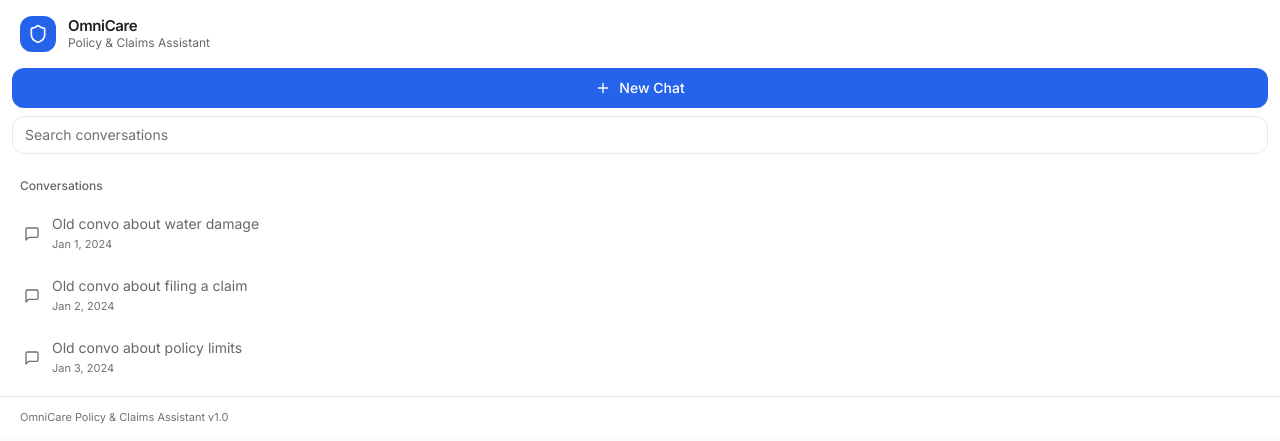
Test: Sidebar conversation actions › leaves the row untouched when the rename is cancelled with Escape
Expected: the text "Old convo about water damage" is shown, [52,215,259,232]
Hover over the element showing "Old convo about water damage Jan 1, 2024".
mouse_move(640, 234)  # box [12,204,1268,264]
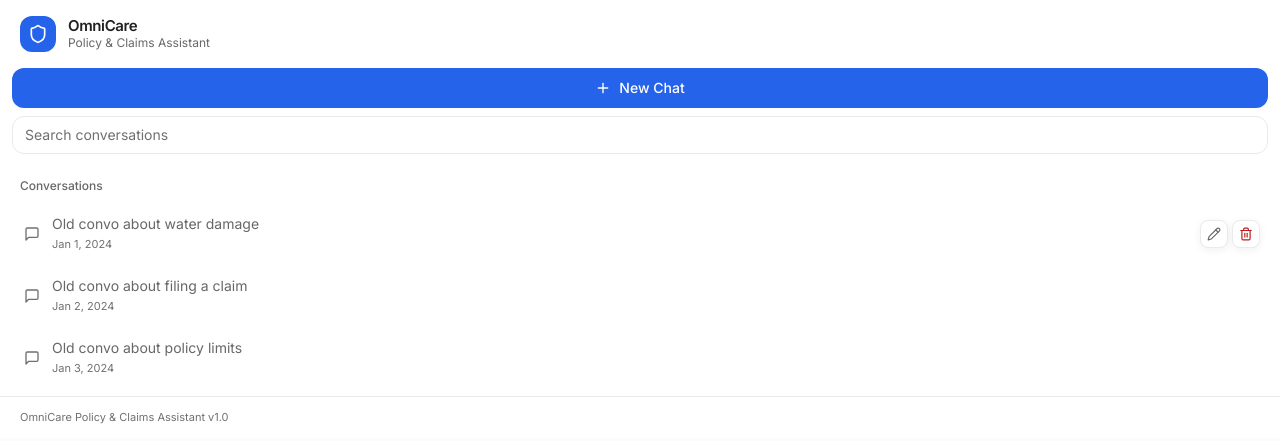
Click the button named "Rename Old convo about water damage".
click(1214, 234)  # box [1200,220,1228,248]
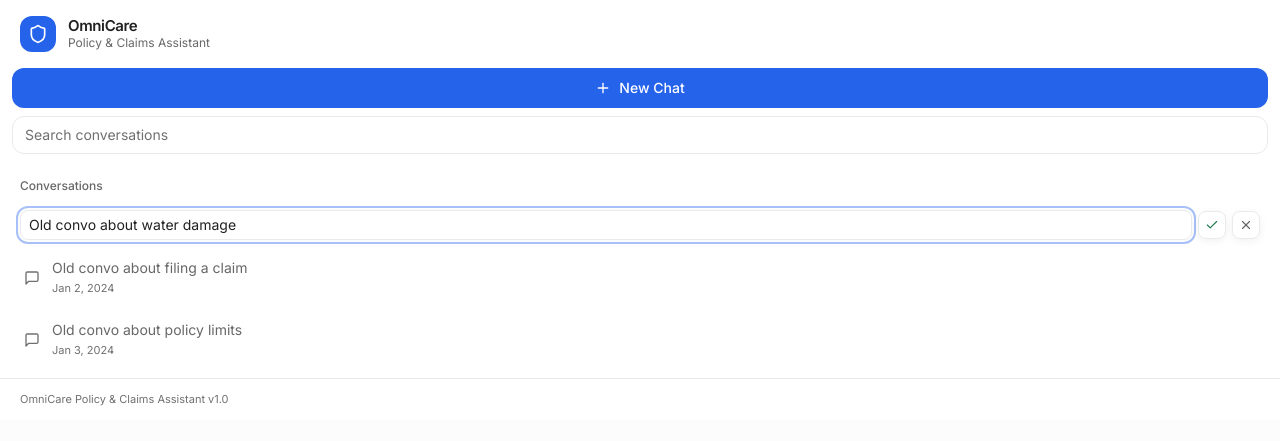
Replace the text in the field named "New title for Old convo about water damage" with "Discarded title" at (606, 225), box [20,210,1192,240]
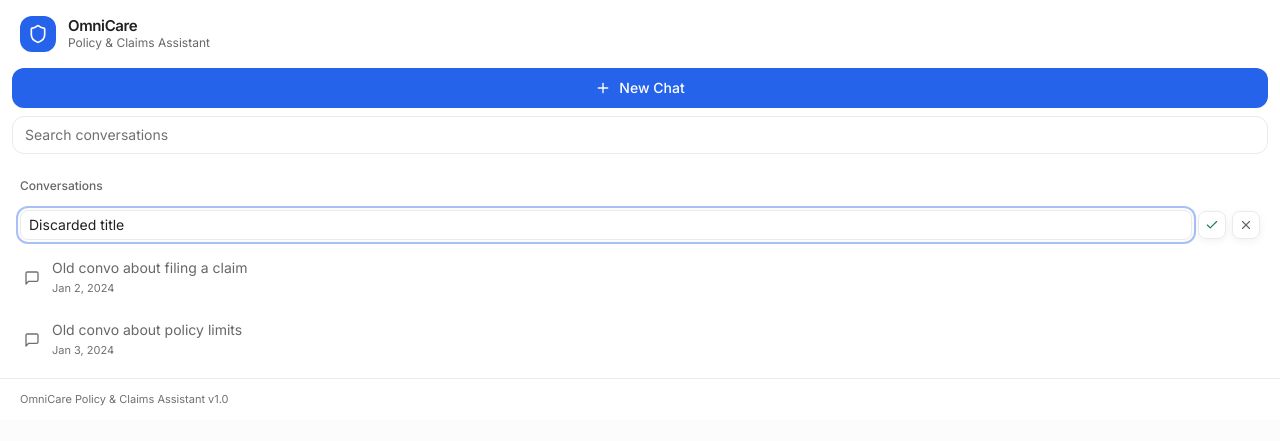
Press Escape in the field named "New title for Old convo about water damage", box [20,210,1192,240]
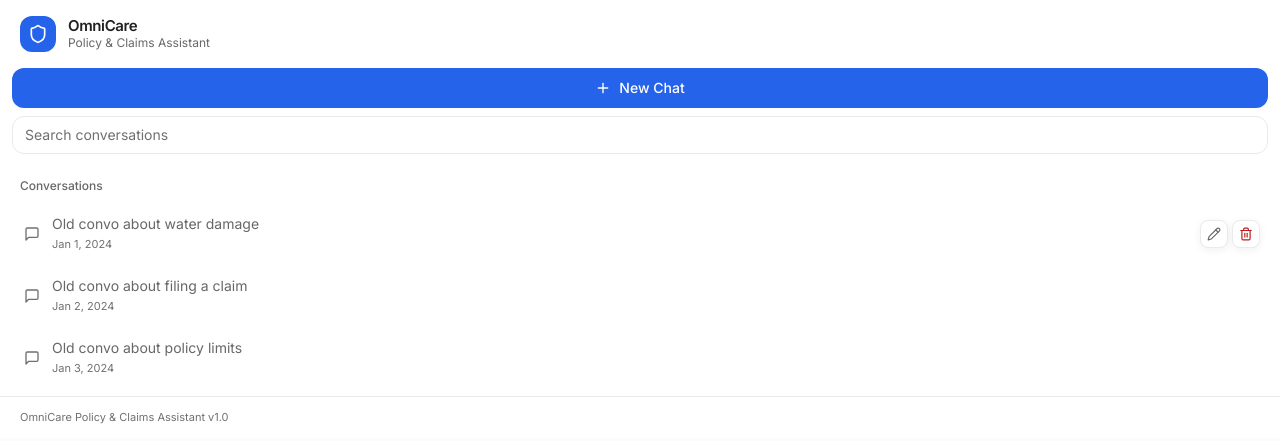
Now the text "Old convo about water damage" is shown, box [52,215,259,232]
